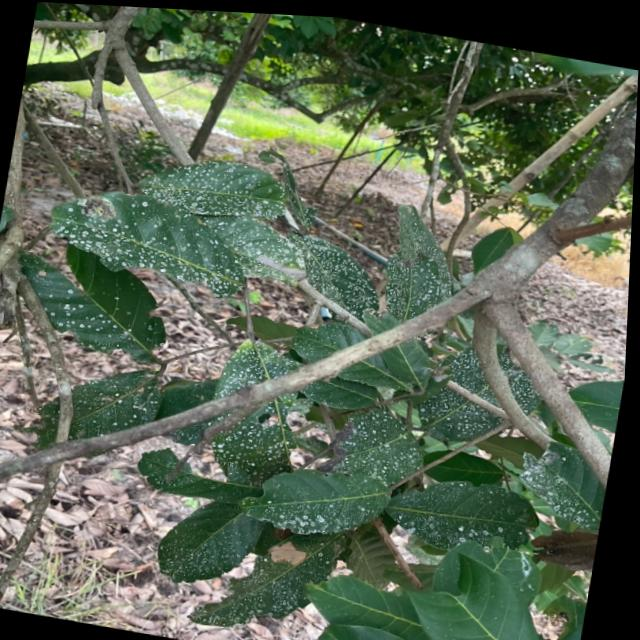Algal Leaf Spot: (36, 148, 550, 529)
